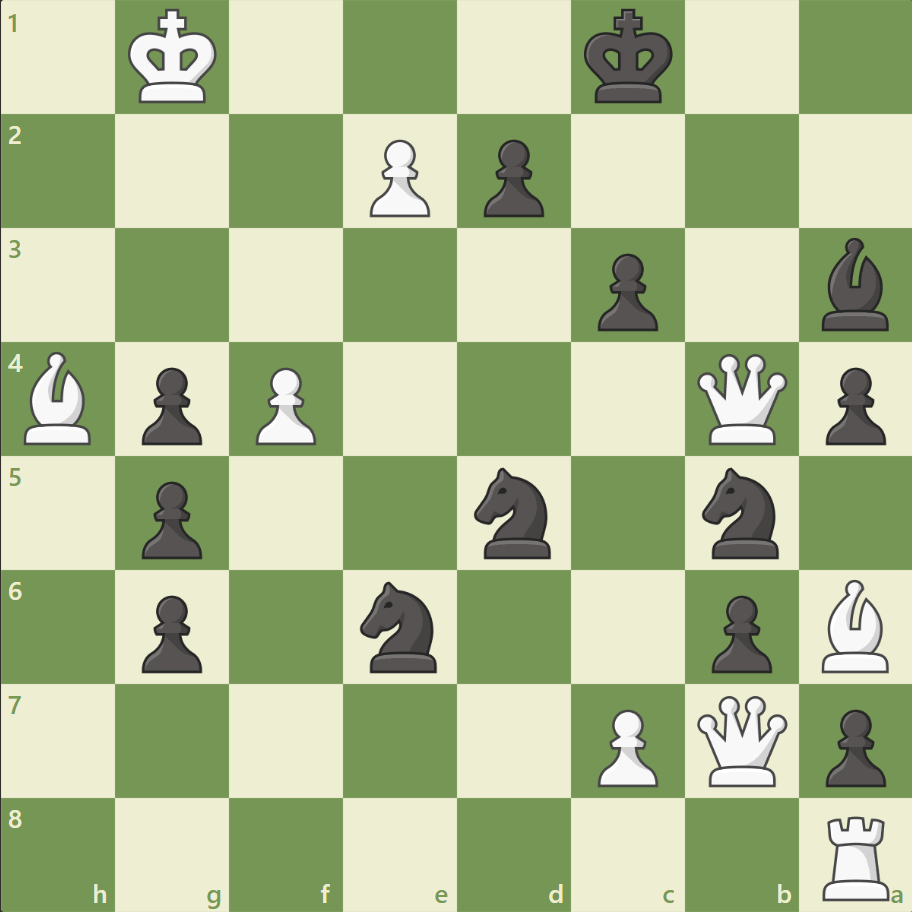B: (812, 574, 896, 676), (17, 347, 101, 449)
K: (124, 4, 224, 112)
P: (247, 359, 322, 450), (588, 700, 662, 791), (361, 132, 435, 223)
Q: (691, 349, 790, 449), (691, 690, 790, 789)
R: (814, 806, 897, 904)
b: (812, 233, 896, 336)
k: (579, 4, 679, 112)
n: (351, 575, 449, 677), (692, 461, 789, 564), (465, 461, 562, 564)
p: (701, 586, 776, 677), (133, 586, 208, 677), (133, 473, 208, 564), (133, 359, 208, 450), (474, 132, 549, 223), (815, 700, 889, 791), (815, 359, 889, 450), (588, 246, 662, 337)
